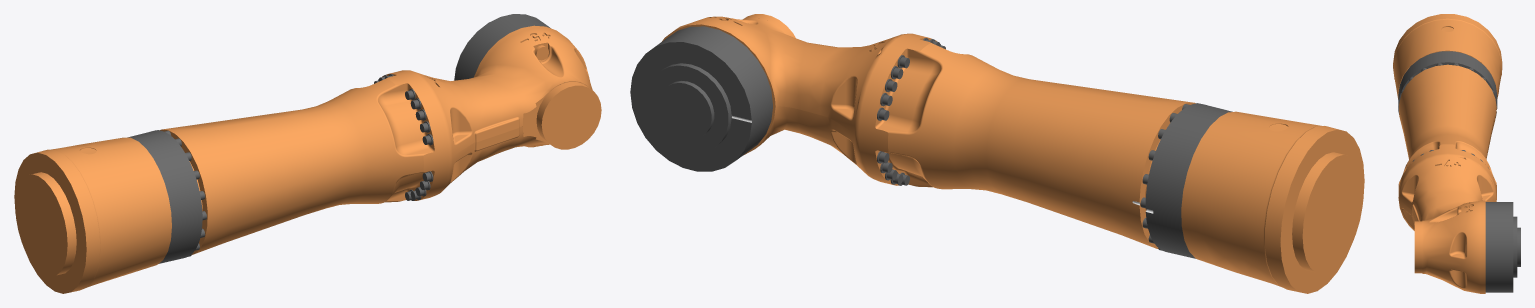
The picture shows the model from 3 angles, left to right: view 1: azimuth 30°, elevation 25°; view 2: azimuth 150°, elevation 25°; view 3: azimuth 270°, elevation 25°; orthographic projection. The views are drawn at different scales.
Visible parts, largest first — view 1: link_4; view 2: link_4; view 3: link_4.
Boxes of the visible parts, bbox=[...] form: link_4: bbox=[14, 14, 601, 293]; link_4: bbox=[630, 14, 1364, 293]; link_4: bbox=[1393, 14, 1520, 293].
Size of the model in its own units: 0.619 by 0.1613 by 0.138.
